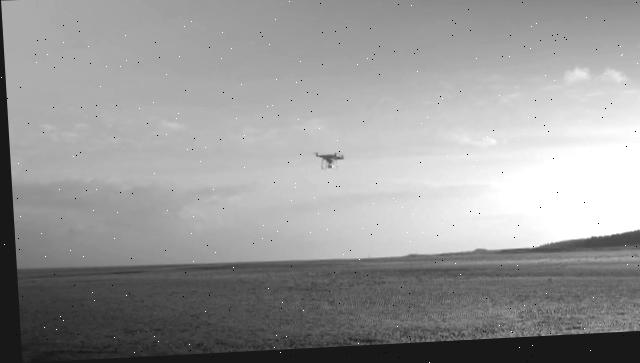drone: (311, 152, 342, 174)
